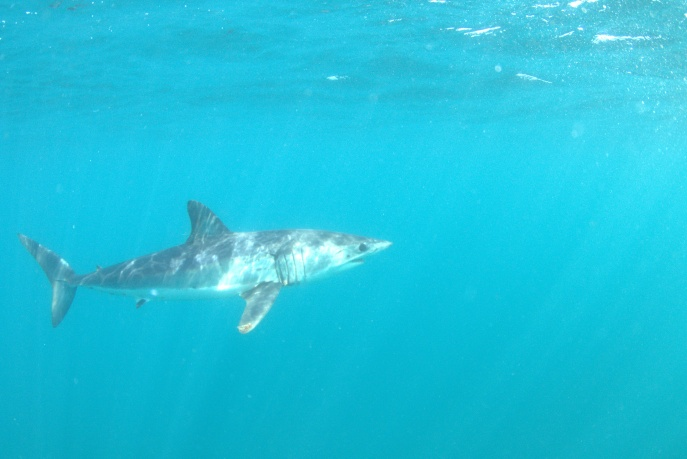Mako: (1, 193, 403, 345)
